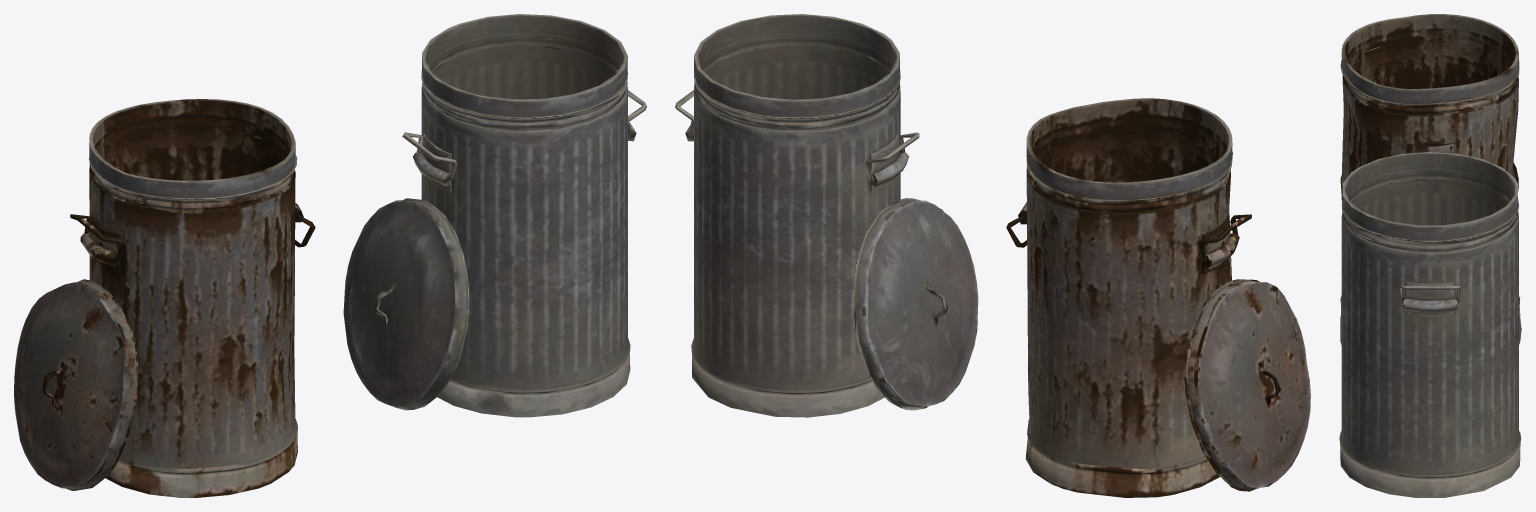
File: metal_trash_can.glb
3 renders of one model, left to right at view 1: azimuth 30°, elevation 25°; view 2: azimuth 150°, elevation 25°; view 3: azimuth 270°, elevation 25°, orthographic. The views are drawn at different scales.
Visible parts, largest first — view 1: metal_trash_can_handle_left, metal_trash_can_rust; view 2: metal_trash_can_handle_left, metal_trash_can_rust; view 3: metal_trash_can_handle_left, metal_trash_can_rust.
Part boxes in pixels (x1,y1,x2,y2): metal_trash_can_handle_left: (343,14,646,417); metal_trash_can_rust: (14,99,315,497); metal_trash_can_handle_left: (675,14,978,417); metal_trash_can_rust: (1006,98,1310,497); metal_trash_can_handle_left: (1339,152,1521,497); metal_trash_can_rust: (1340,14,1520,319).
Size of the model in its own units: 1.78 by 0.9062 by 0.5533.
2 materials, 2 textured.
